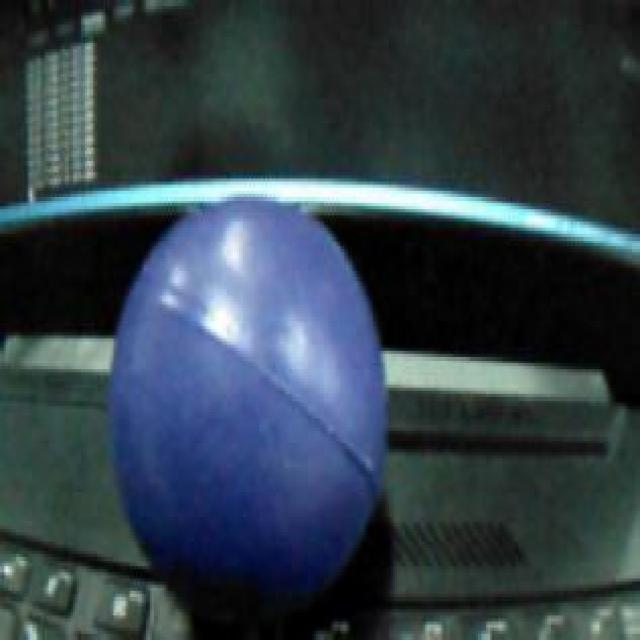BallPurple: (108, 200, 386, 606)
